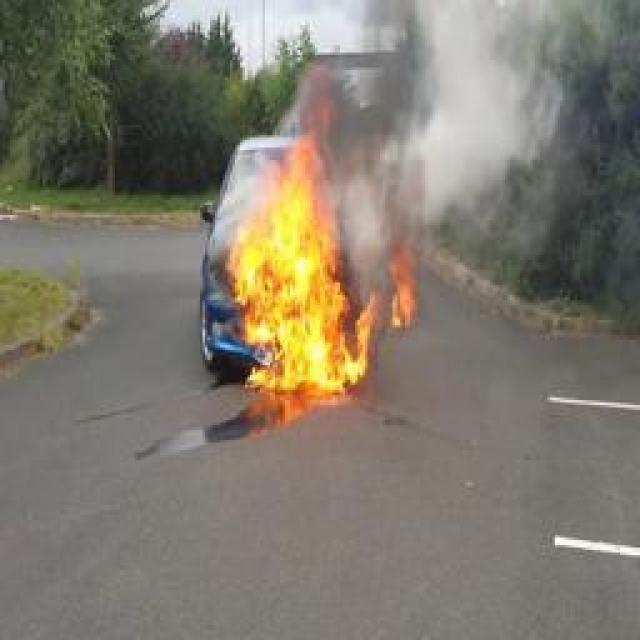Fire: (228, 132, 372, 396)
